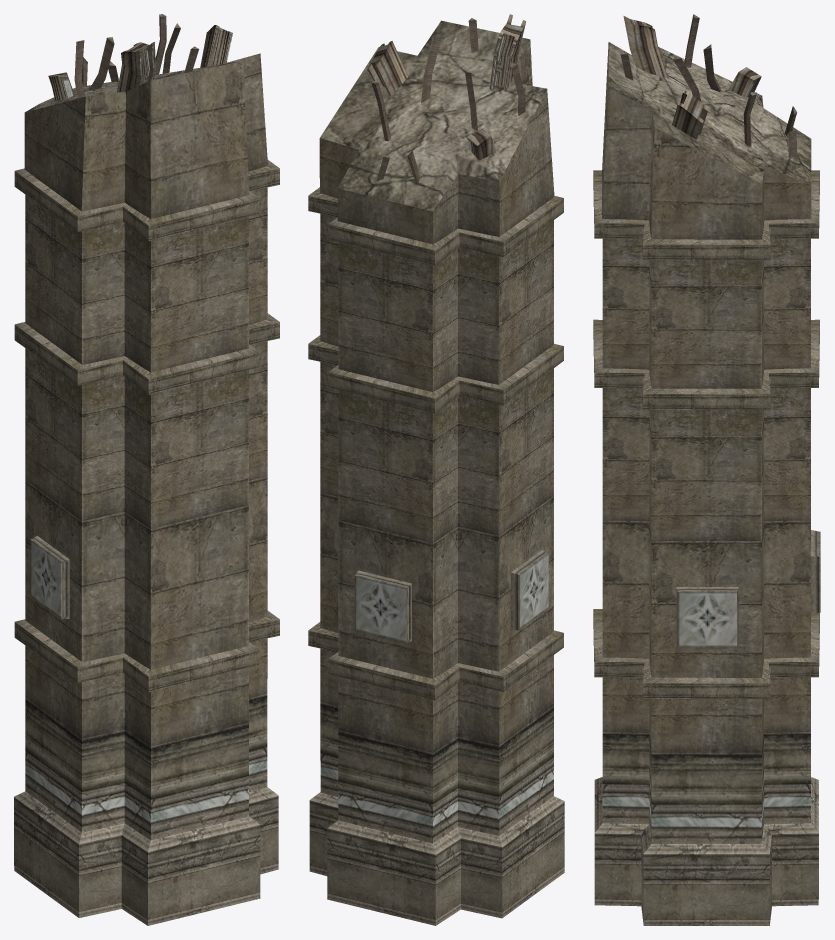
File: SM_EN_2005_zhizi0102.FBX
The picture shows the model from 3 angles, left to right: view 1: azimuth 30°, elevation 25°; view 2: azimuth 150°, elevation 25°; view 3: azimuth 270°, elevation 25°; orthographic projection. The views are drawn at different scales.
Visible parts, largest first — view 1: SM_EN_2005_zhizi0102; view 2: SM_EN_2005_zhizi0102; view 3: SM_EN_2005_zhizi0102.
Part boxes in pixels (x1=…): SM_EN_2005_zhizi0102: x1=14, y1=14, x2=279, y2=925; SM_EN_2005_zhizi0102: x1=308, y1=14, x2=564, y2=925; SM_EN_2005_zhizi0102: x1=593, y1=14, x2=820, y2=925.
Bounding box in the file's own units: 87.18 × 359 × 87.54.
